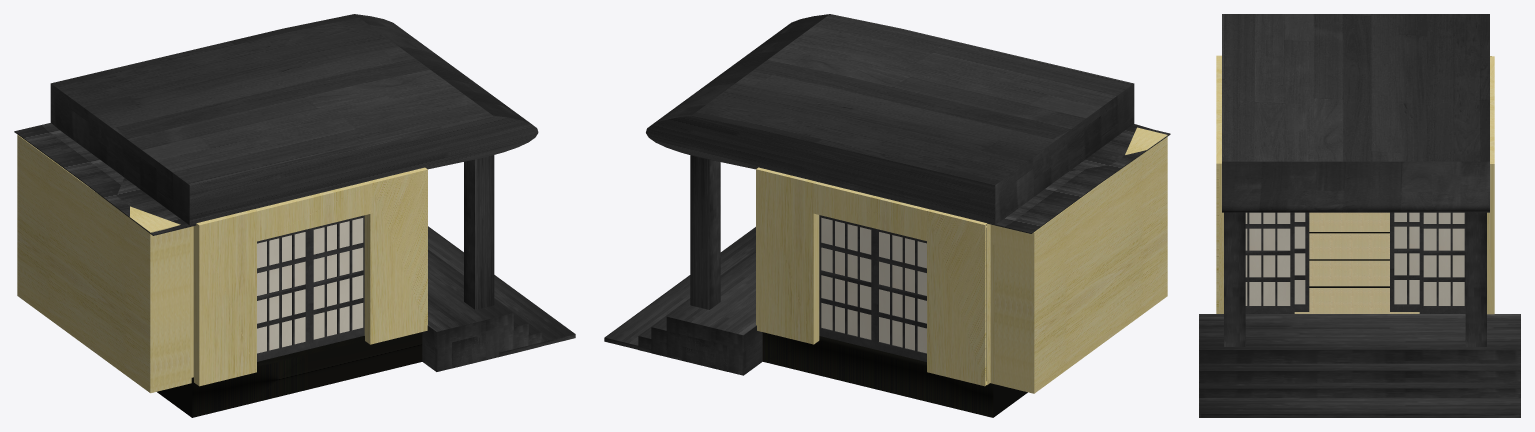
The picture shows the model from 3 angles, left to right: view 1: azimuth 30°, elevation 25°; view 2: azimuth 150°, elevation 25°; view 3: azimuth 270°, elevation 25°; orthographic projection. The views are drawn at different scales.
Parts seen in each view (by area): view 1: Cube.005, Cube.001, Cube.003, Cube.011, Cube, DaScreen.006, DaScreen.007, ScreenDoor.006, ScreenDoor.007; view 2: Cube.005, Cube.001, Cube.002, Cube.011, Cube, DaScreen.005, DaScreen.004, ScreenDoor.005, ScreenDoor.004, Cube.008; view 3: Cube.005, Cube.011, Cube.013, DaScreen, DaScreen.001, ScreenDoor, ScreenDoor.001, DaScreen.002, Cube.003, Cube.002, ScreenDoor.002, DaScreen.003 (+2 smaller).
Part boxes in pixels (x1,y1,x2,y2): Cube.005: (14, 14, 538, 235); Cube.001: (17, 134, 193, 393); Cube.003: (193, 167, 427, 386); Cube.011: (422, 155, 575, 371); Cube: (157, 332, 422, 417); DaScreen.006: (313, 218, 363, 339); DaScreen.007: (257, 232, 305, 353); ScreenDoor.006: (310, 215, 364, 348); ScreenDoor.007: (257, 228, 309, 361); Cube.005: (646, 14, 1170, 233); Cube.001: (990, 127, 1167, 393); Cube.002: (756, 167, 986, 386); Cube.011: (604, 155, 762, 375); Cube: (762, 332, 1027, 417); DaScreen.005: (821, 217, 871, 339); DaScreen.004: (879, 232, 926, 353); ScreenDoor.005: (819, 215, 874, 349); ScreenDoor.004: (874, 228, 926, 361); Cube.008: (986, 223, 990, 384); Cube.005: (1222, 14, 1489, 212); Cube.011: (1199, 212, 1520, 417); Cube.013: (1294, 212, 1419, 313); DaScreen: (1245, 212, 1290, 305); DaScreen.001: (1423, 212, 1464, 305); ScreenDoor: (1245, 212, 1294, 313); ScreenDoor.001: (1419, 212, 1465, 313); DaScreen.002: (1394, 212, 1419, 304); Cube.003: (1216, 55, 1223, 313); Cube.002: (1487, 56, 1494, 314); ScreenDoor.002: (1390, 212, 1419, 311); DaScreen.003: (1294, 212, 1305, 304).
Size of the model in its own units: 21.34 by 11.73 by 15.
Materials: 14 (14 with a texture image).
